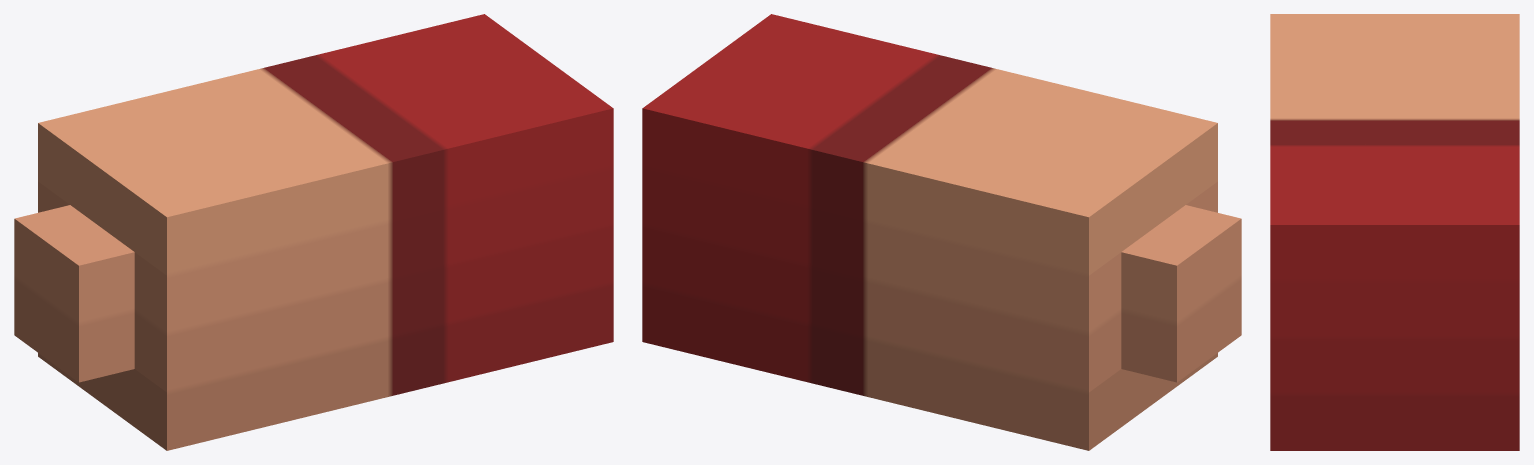
Rendered from Elbow016.fbx.
3 views of the same model, side by side, from view 1: azimuth 30°, elevation 25°; view 2: azimuth 150°, elevation 25°; view 3: azimuth 270°, elevation 25° (orthographic). The views are drawn at different scales.
Parts seen in each view (by area): view 1: Elbow016; view 2: Elbow016; view 3: Elbow016.
Boxes of the visible parts, x1,y1,x2,y2 form: Elbow016: (14, 14, 613, 450); Elbow016: (642, 14, 1241, 450); Elbow016: (1270, 14, 1519, 450).
Size of the model in its own units: 9 by 4 by 4.
